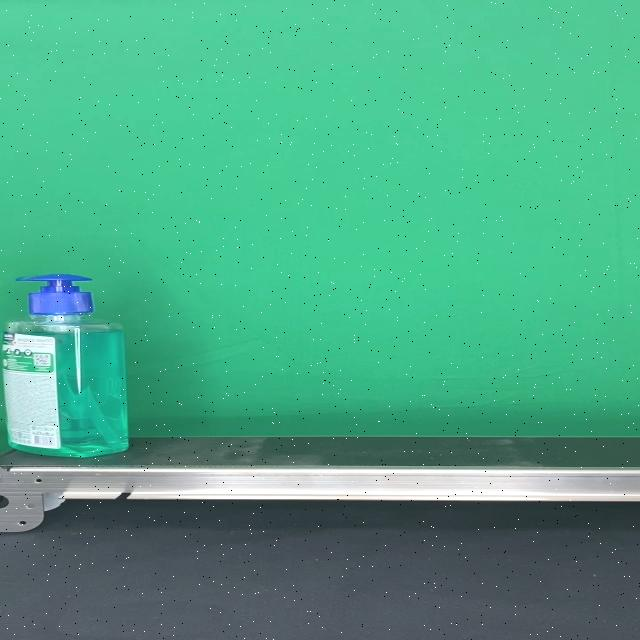Bottle: (0, 273, 130, 457)
Cap: (16, 273, 92, 314)
